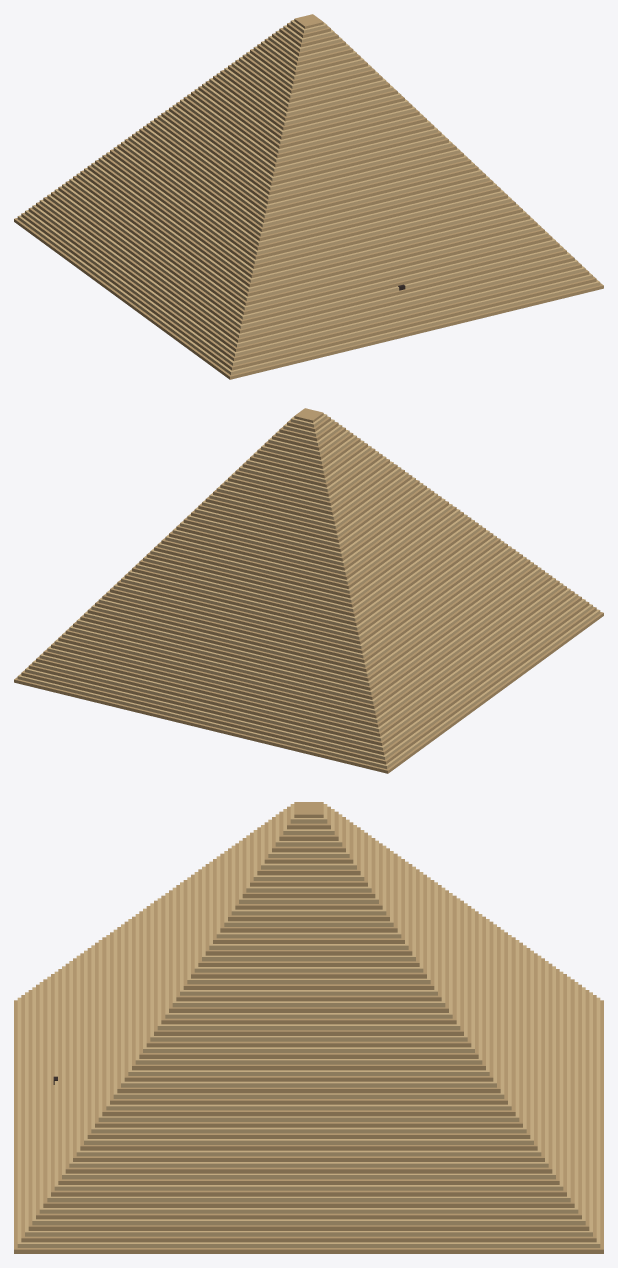
Rendered from pyramid_stor.glb.
The picture shows the model from 3 angles, top to bottom: view 1: azimuth 30°, elevation 25°; view 2: azimuth 150°, elevation 25°; view 3: azimuth 270°, elevation 25°; orthographic projection. The views are drawn at different scales.
Parts seen in each view (by area): view 1: pyramid_stor; view 2: pyramid_stor; view 3: pyramid_stor.
Part boxes in pixels (x1=…): pyramid_stor: x1=14, y1=14, x2=603, y2=379; pyramid_stor: x1=14, y1=408, x2=603, y2=773; pyramid_stor: x1=14, y1=802, x2=603, y2=1253.
Size of the model in its own units: 200 by 120 by 200.
